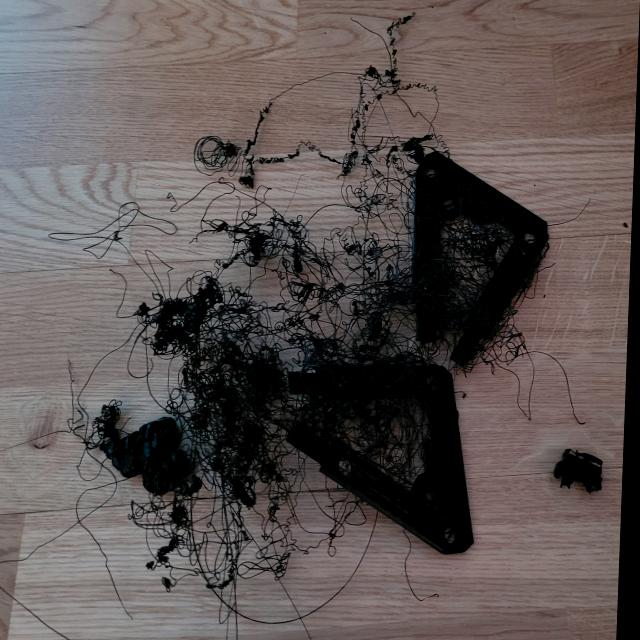spaghetti: (0, 11, 632, 640)
